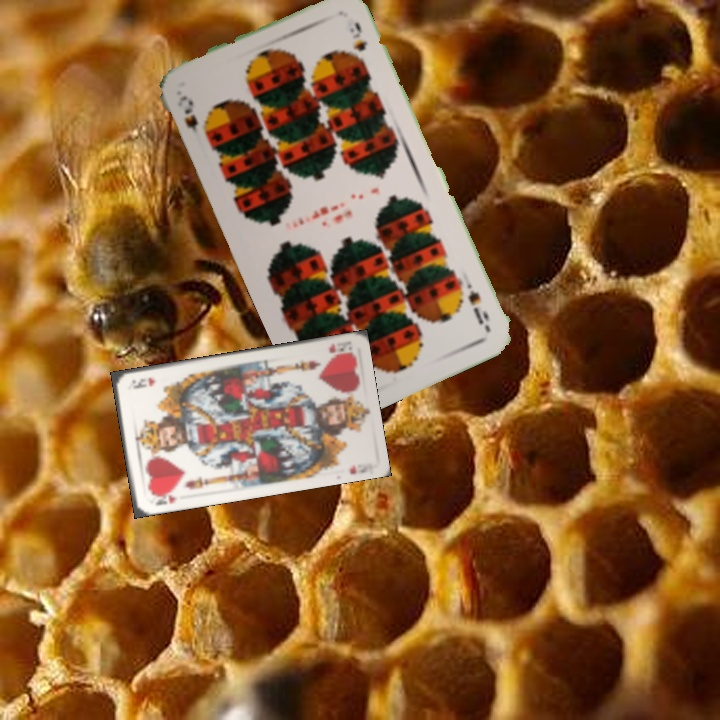HK: (148, 487, 179, 508), (325, 339, 350, 356)
S9: (462, 275, 492, 332), (172, 91, 201, 136)
